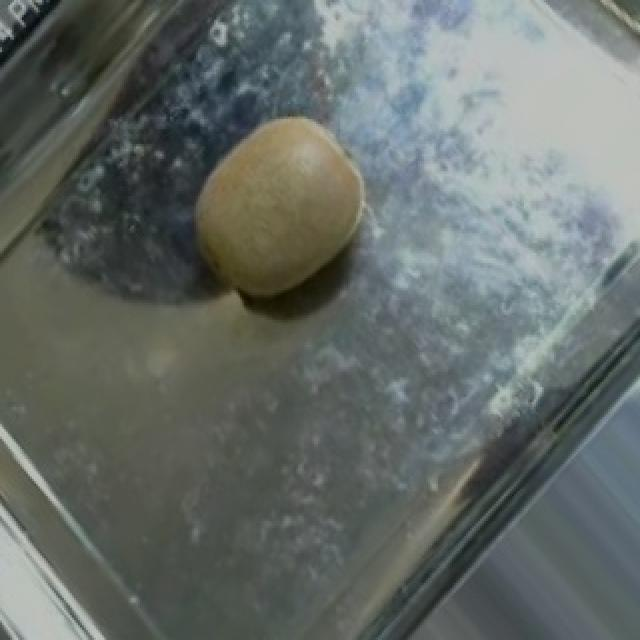Fruit: (158, 87, 396, 322)
